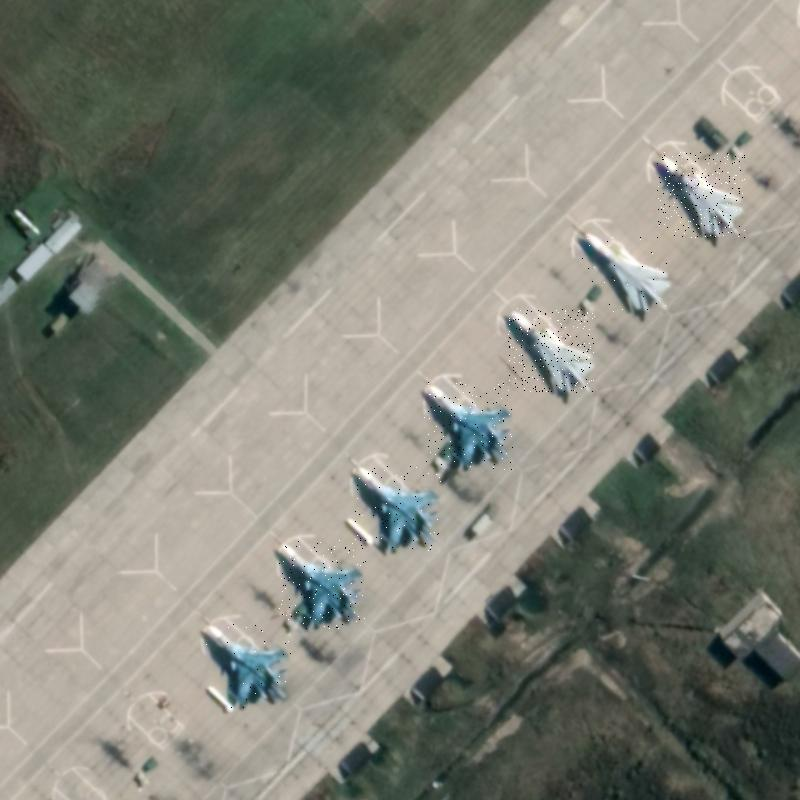A19: (424, 382, 514, 470), (278, 540, 366, 629), (355, 463, 442, 551), (204, 622, 291, 708)
A20: (581, 229, 673, 314), (657, 152, 745, 238), (508, 308, 595, 393)
